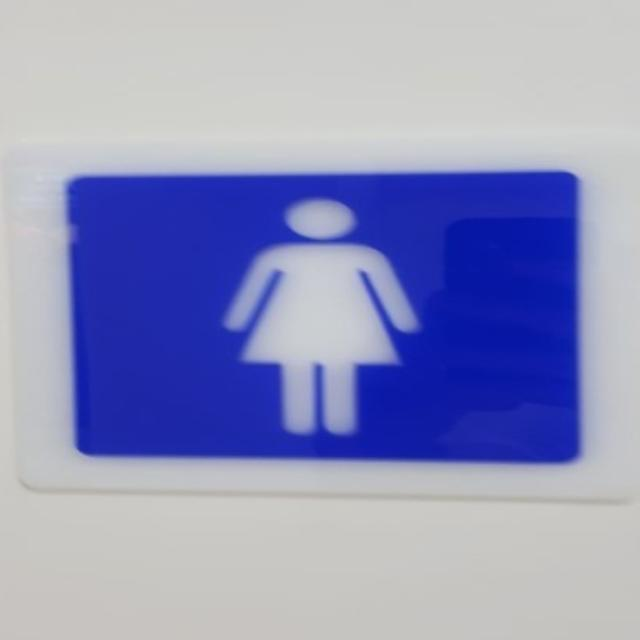wc nu: (69, 169, 580, 464)
